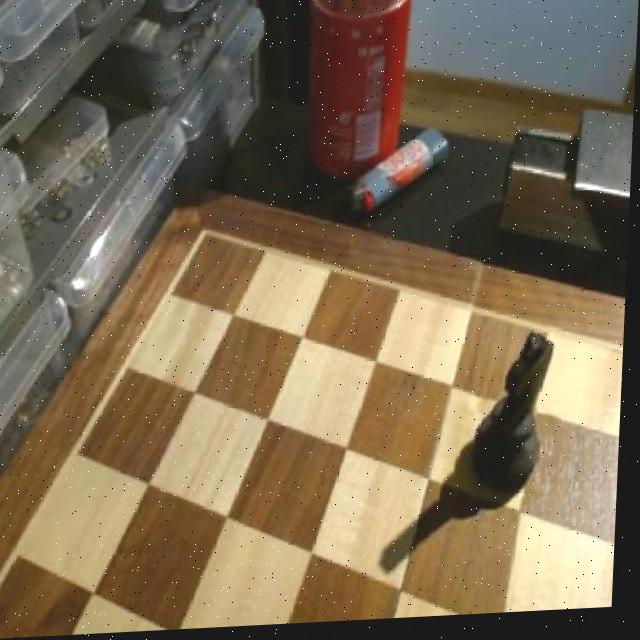black-king: (476, 327, 568, 506)
